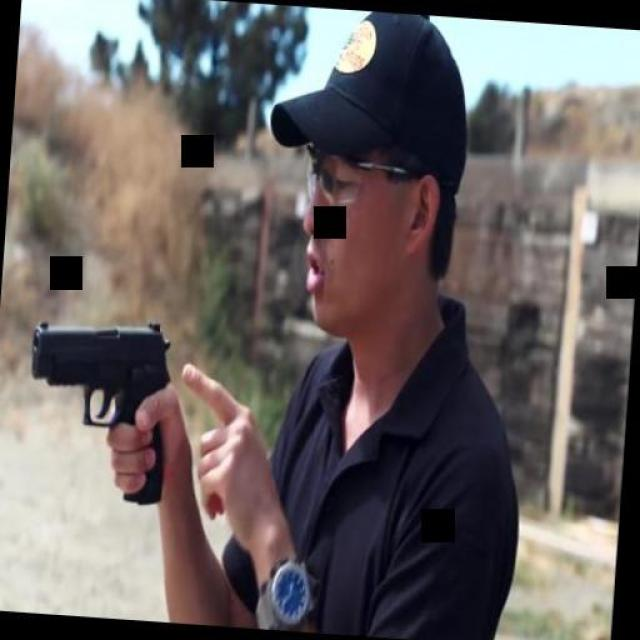gun: (21, 312, 182, 508)
